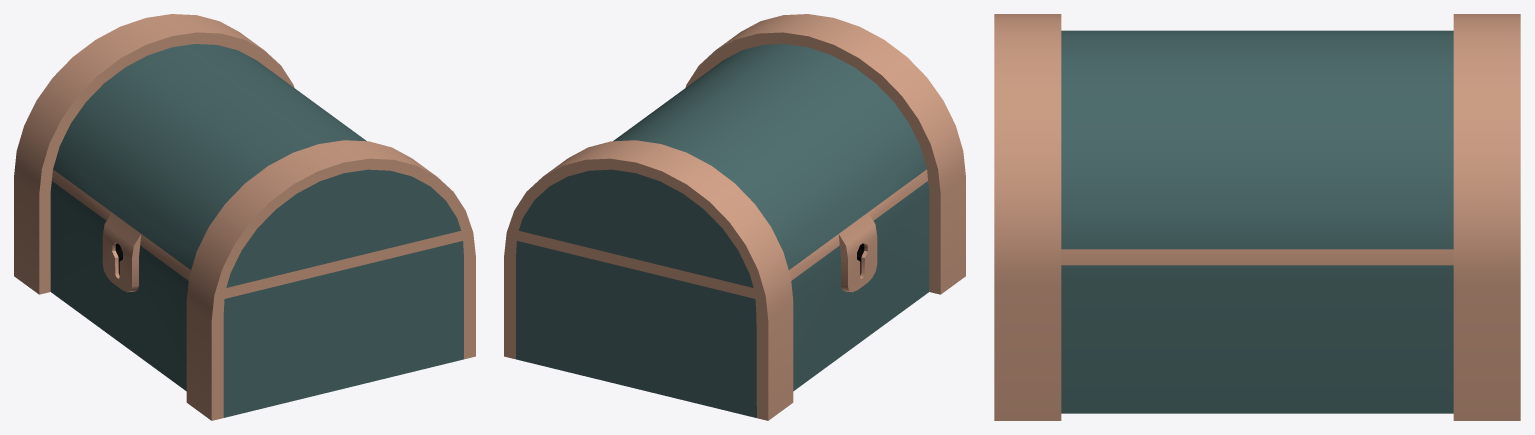
The model's file is DI_050_chest.glb.
3 renders of one model, left to right at view 1: azimuth 30°, elevation 25°; view 2: azimuth 150°, elevation 25°; view 3: azimuth 270°, elevation 25°, orthographic. The views are drawn at different scales.
Parts seen in each view (by area): view 1: Chest; view 2: Chest; view 3: Chest.
Boxes of the visible parts, x1=… form: Chest: x1=14, y1=14, x2=475, y2=420; Chest: x1=504, y1=14, x2=965, y2=420; Chest: x1=994, y1=14, x2=1520, y2=420.
Size of the model in its own units: 0.9349 by 0.7652 by 1.21.
